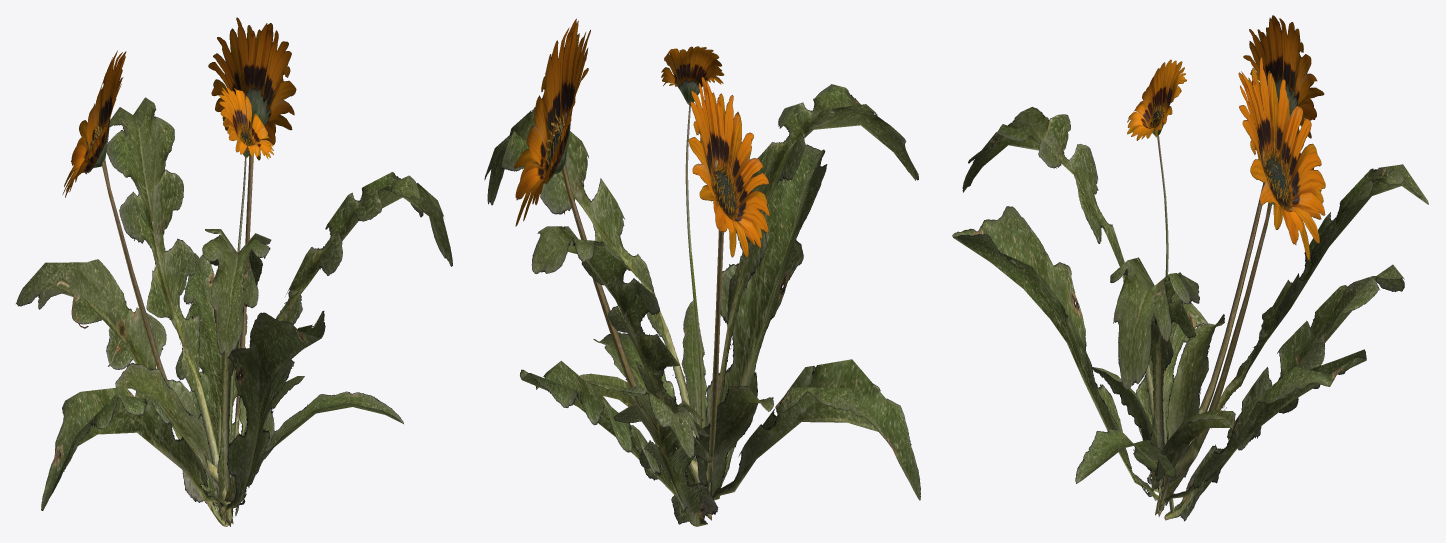
Rendered from flower_gazania_single_1.fbx.
The picture shows the model from 3 angles, left to right: view 1: azimuth 30°, elevation 25°; view 2: azimuth 150°, elevation 25°; view 3: azimuth 270°, elevation 25°; orthographic projection. The views are drawn at different scales.
Parts seen in each view (by area): view 1: flower_gazania_single_1; view 2: flower_gazania_single_1; view 3: flower_gazania_single_1.
Part boxes in pixels (bbox=[...]): flower_gazania_single_1: bbox=[16, 17, 452, 526]; flower_gazania_single_1: bbox=[484, 18, 920, 526]; flower_gazania_single_1: bbox=[952, 15, 1428, 521].
Bounding box in the file's own units: 0.3123 × 0.35 × 0.3069.
1 material, 1 textured.
